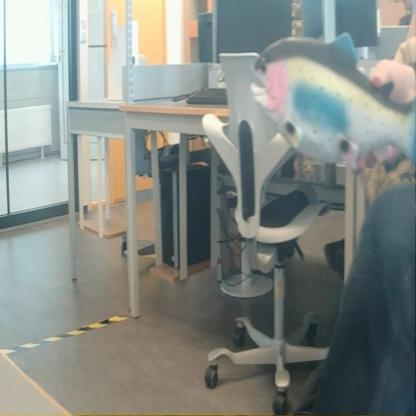rubberfish: (248, 24, 416, 175)
